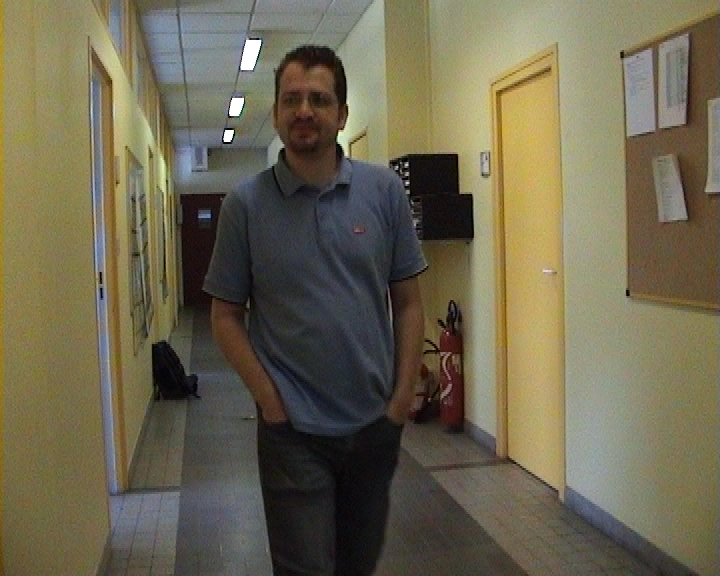leave bag unattended: (125, 323, 225, 408)
